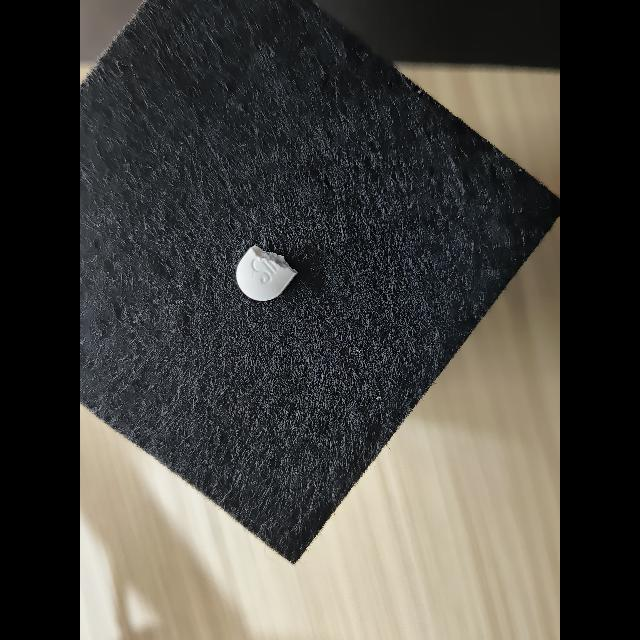Chipped Pill: (236, 245, 298, 301)
